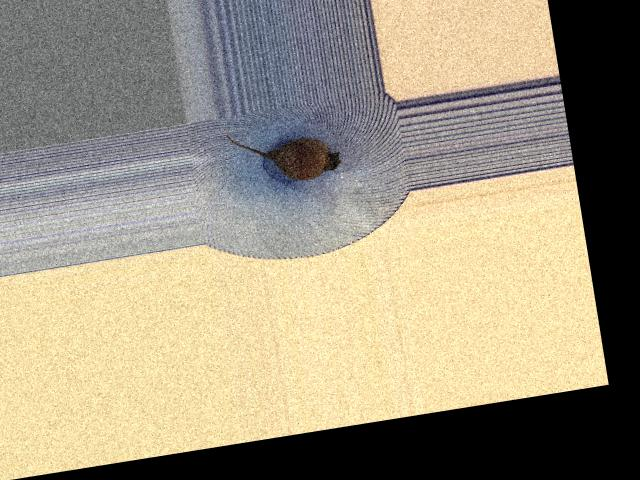beet: (227, 118, 343, 190)
